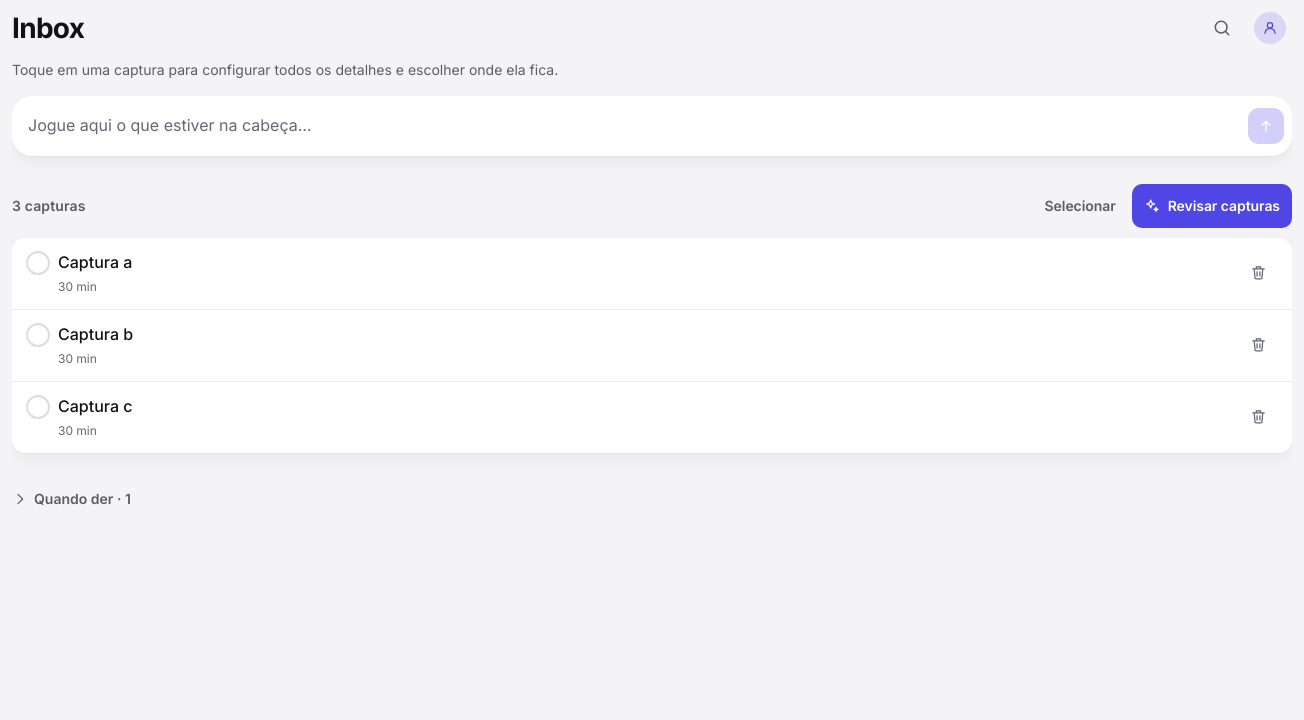
Test: oferece lixeira apenas no contexto explícito do Inbox e mantém abertura pelo corpo
Check: the number of buttons with class "inbox-trash" is 3, box [1236, 250, 1280, 294]; [1236, 322, 1280, 366]; [1236, 394, 1280, 438]
Click the button with class "task-main" showing "Captura a 30 min": [95, 262] box [58, 250, 1228, 297]
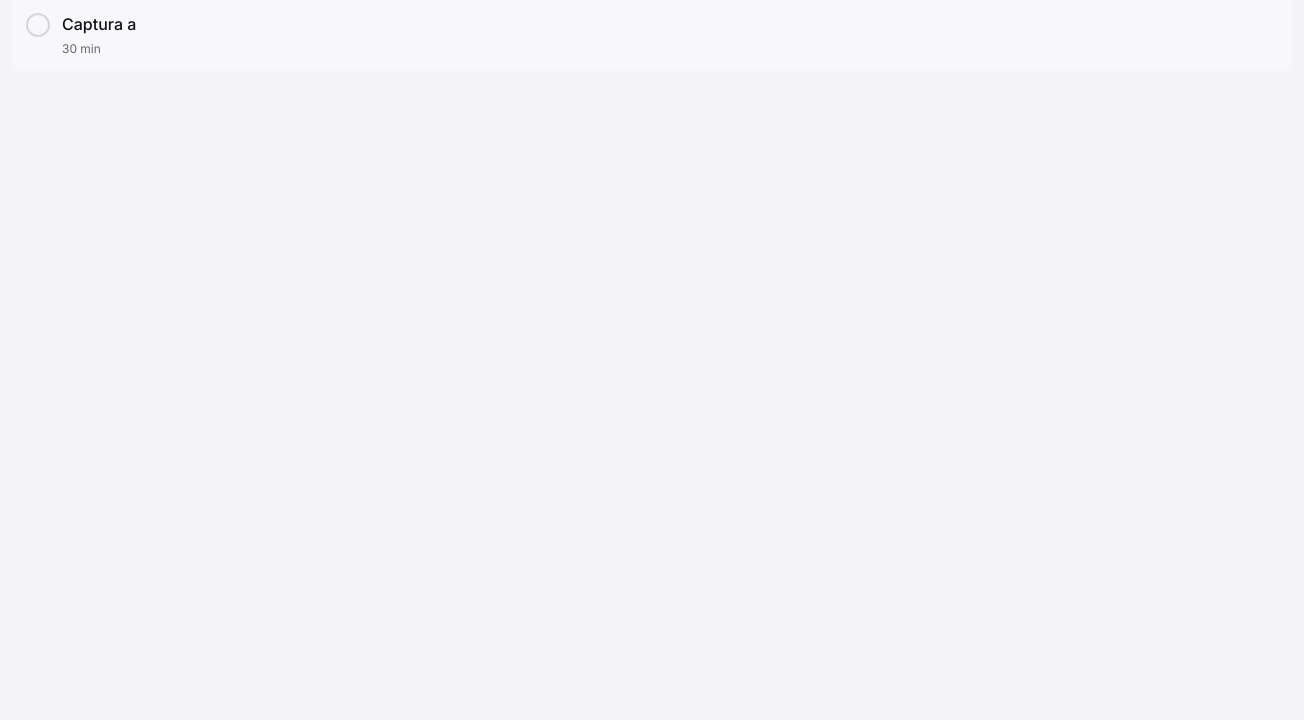
Check: the button with class "inbox-trash" is gone
